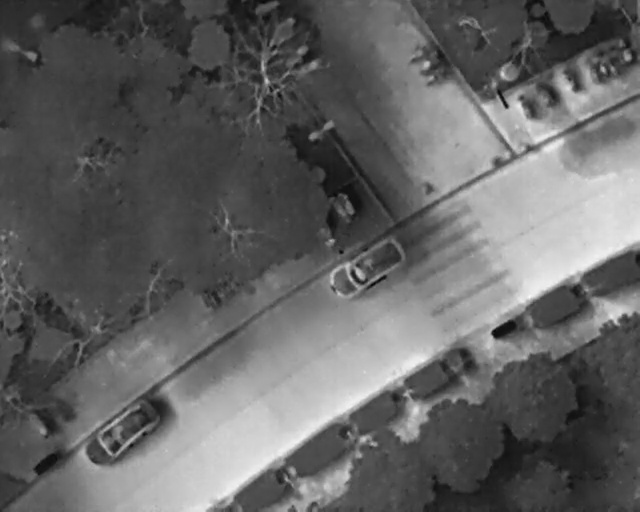Bicycle: (421, 61, 458, 90), (412, 51, 448, 80), (403, 40, 440, 66), (532, 80, 560, 110), (556, 66, 583, 94), (515, 91, 539, 122)
Car: (77, 395, 168, 476), (323, 232, 412, 306)
DontCare: (578, 33, 639, 87)
